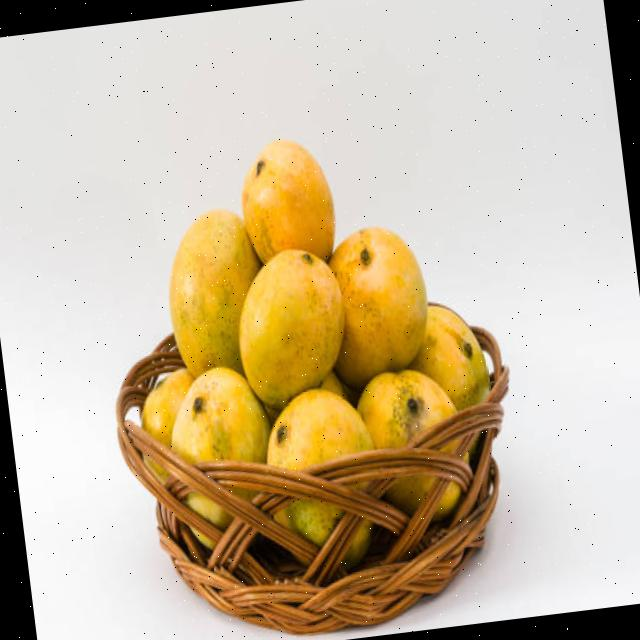mango: (239, 249, 345, 410), (328, 229, 427, 386), (169, 209, 261, 376), (243, 141, 335, 262), (170, 366, 270, 463), (266, 388, 373, 469), (409, 305, 488, 410), (357, 371, 455, 448), (142, 367, 194, 446)
